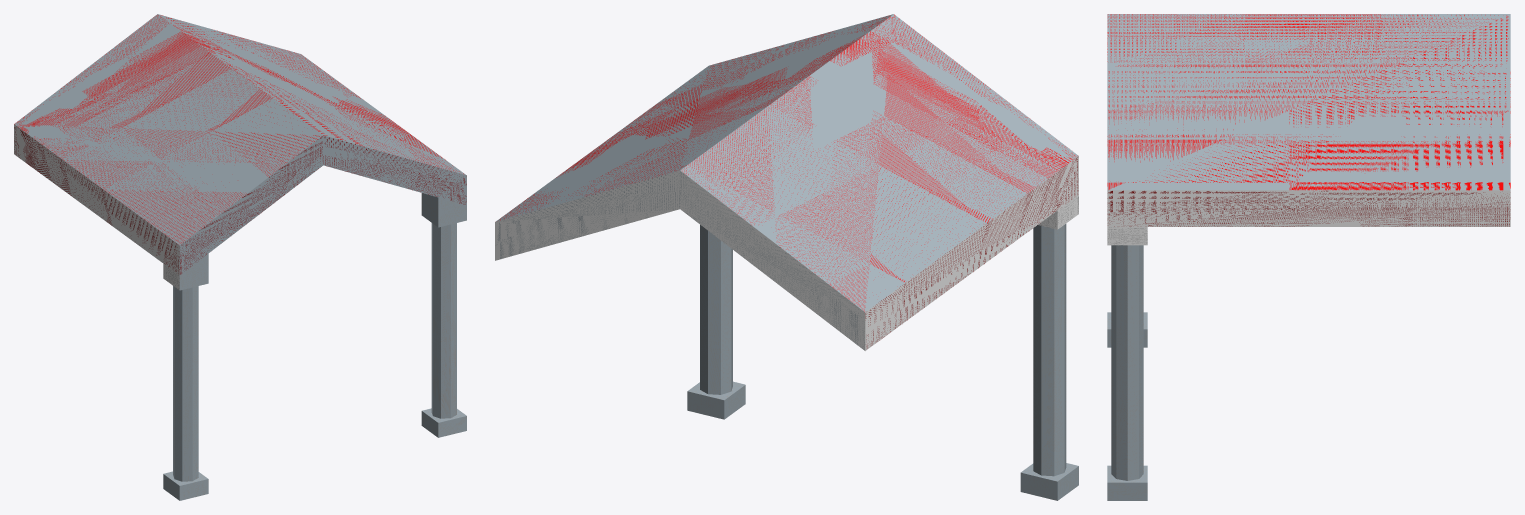
Rendered from verandah.fbx.
3 renders of one model, left to right at view 1: azimuth 30°, elevation 25°; view 2: azimuth 150°, elevation 25°; view 3: azimuth 270°, elevation 25°, orthographic. The views are drawn at different scales.
Visible parts, largest first — view 1: Mesh1_sloped_roof_12_1 Model; view 2: Mesh1_sloped_roof_12_1 Model; view 3: Mesh1_sloped_roof_12_1 Model.
Part boxes in pixels (x1,y1,x2,y2): Mesh1_sloped_roof_12_1 Model: (14, 14, 466, 500); Mesh1_sloped_roof_12_1 Model: (495, 14, 1078, 500); Mesh1_sloped_roof_12_1 Model: (1107, 14, 1510, 500).
Size of the model in its own units: 1 by 1.1 by 1.
